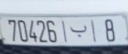0: (17, 19, 29, 44)
2: (38, 19, 47, 44)
4: (29, 19, 37, 43)
6: (47, 19, 57, 44)
7: (7, 19, 17, 43)
8: (104, 18, 116, 43)
b: (68, 23, 88, 39)
